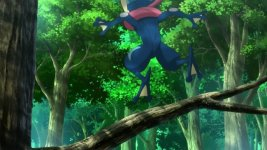greninja: (95, 1, 210, 104)
